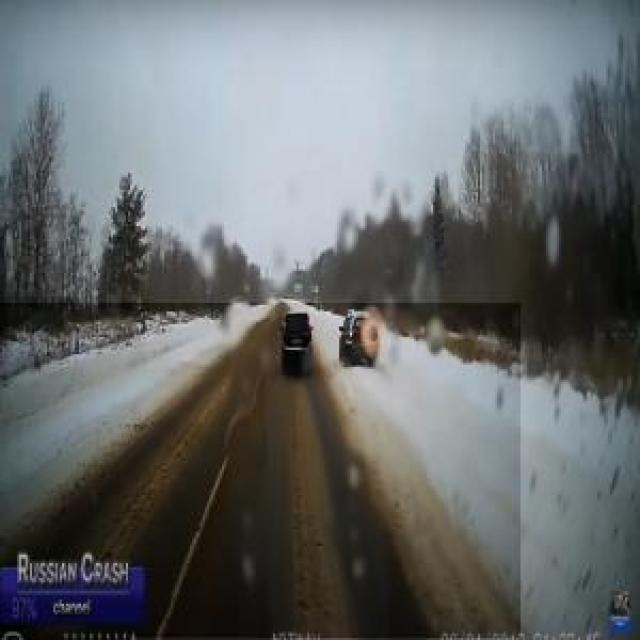ice-road: (0, 303, 521, 640)
